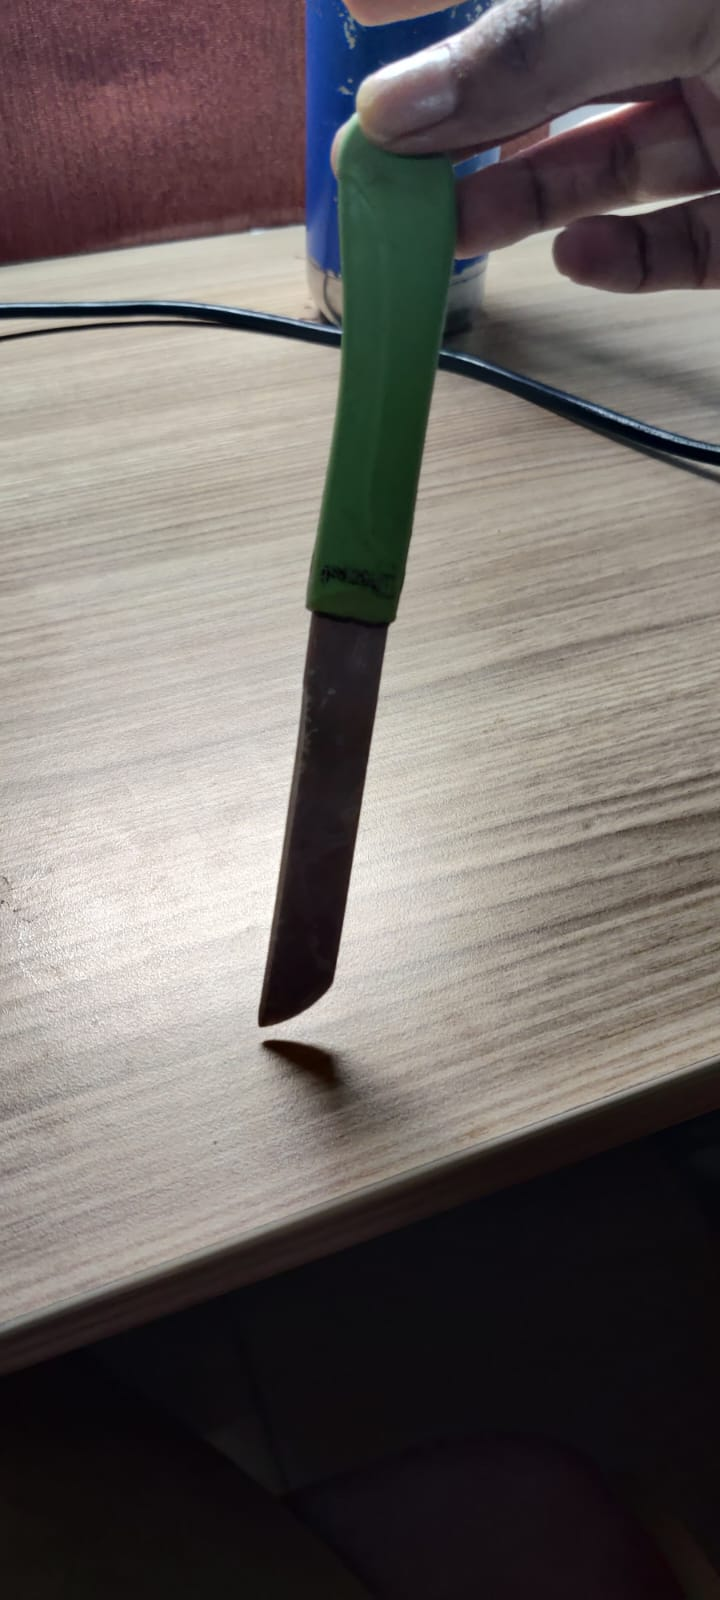knife: (242, 140, 458, 1027)
